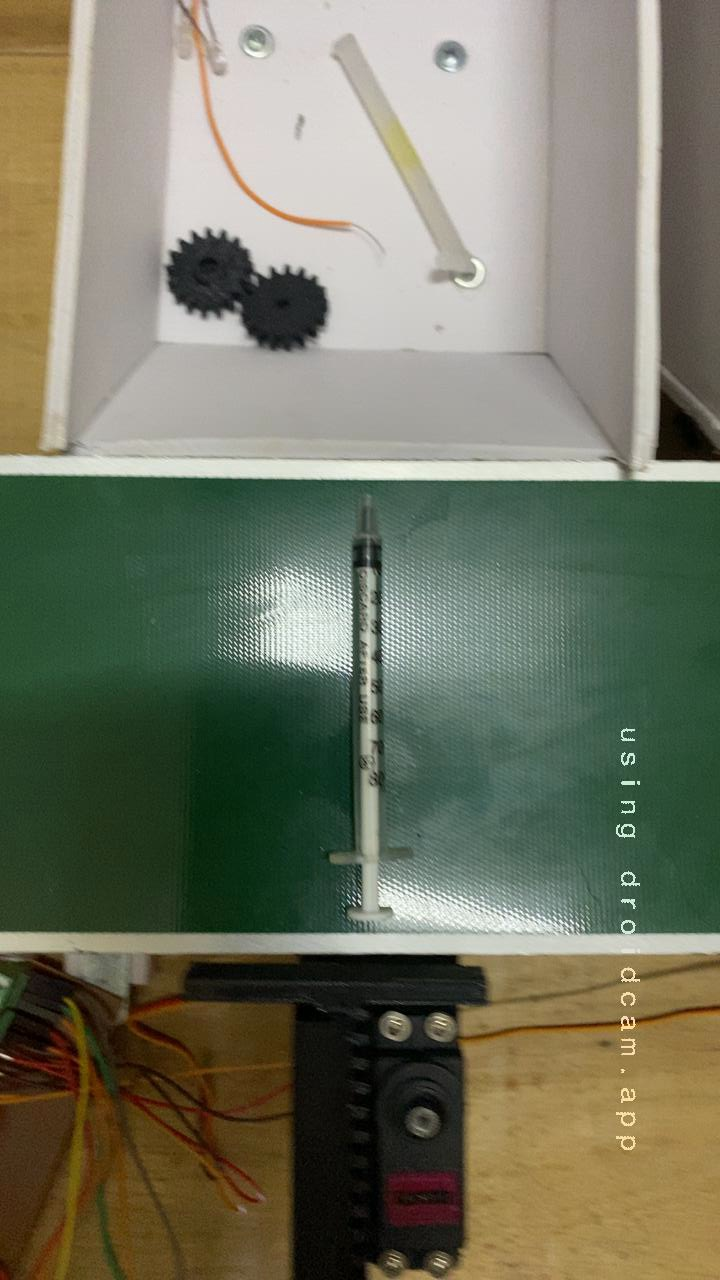syringe: (292, 521, 431, 934)
